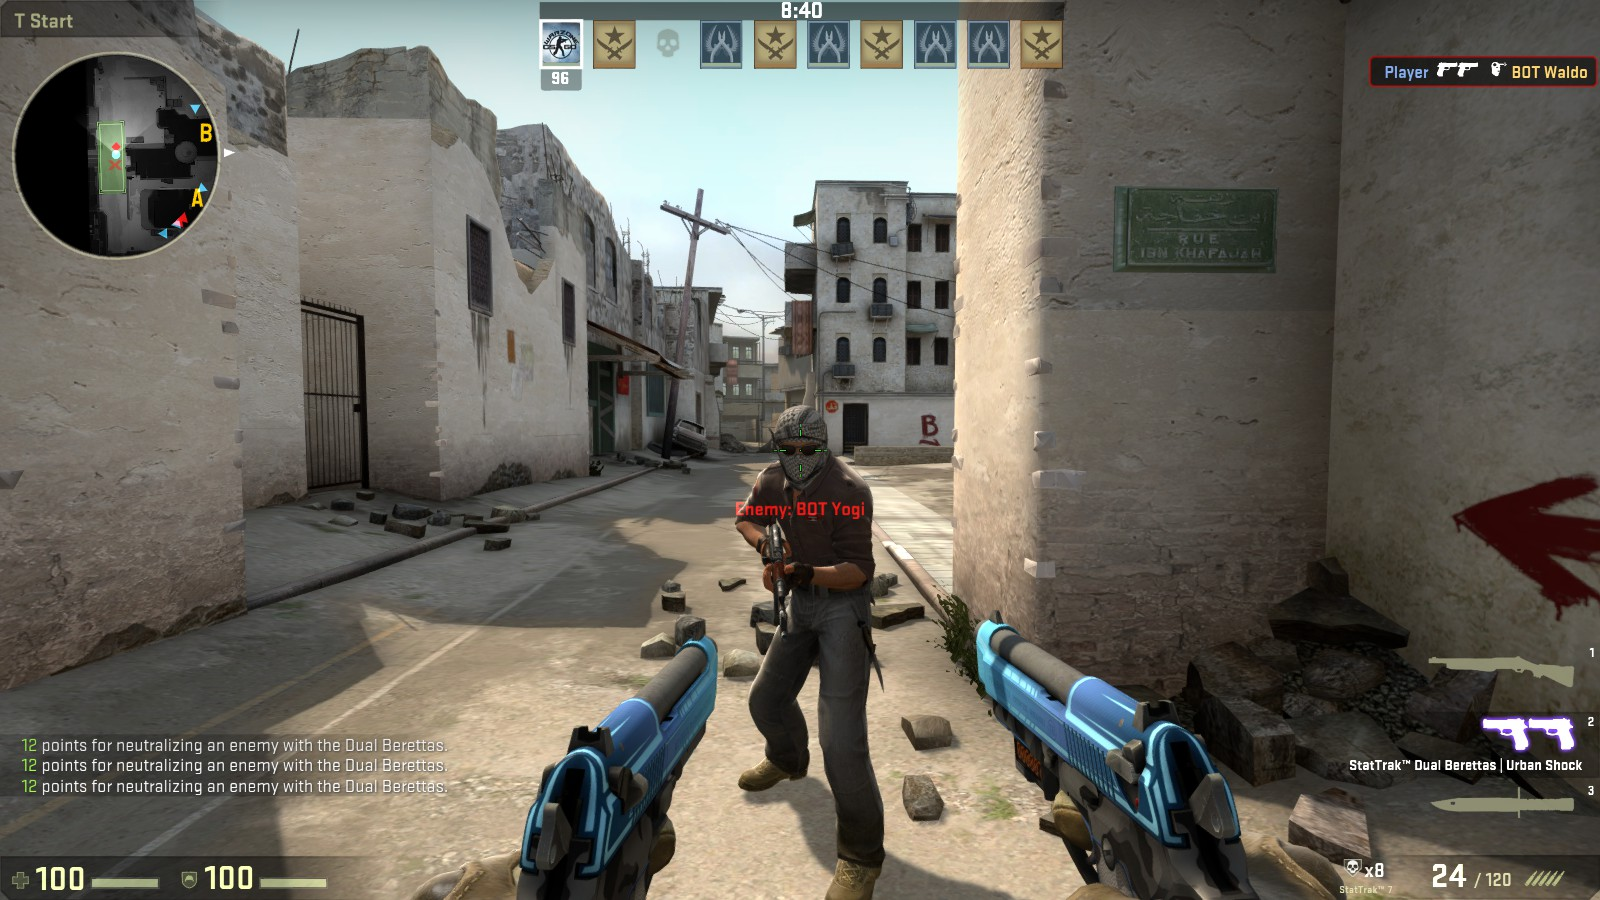t: (735, 397, 904, 897)
th: (768, 400, 835, 485)
